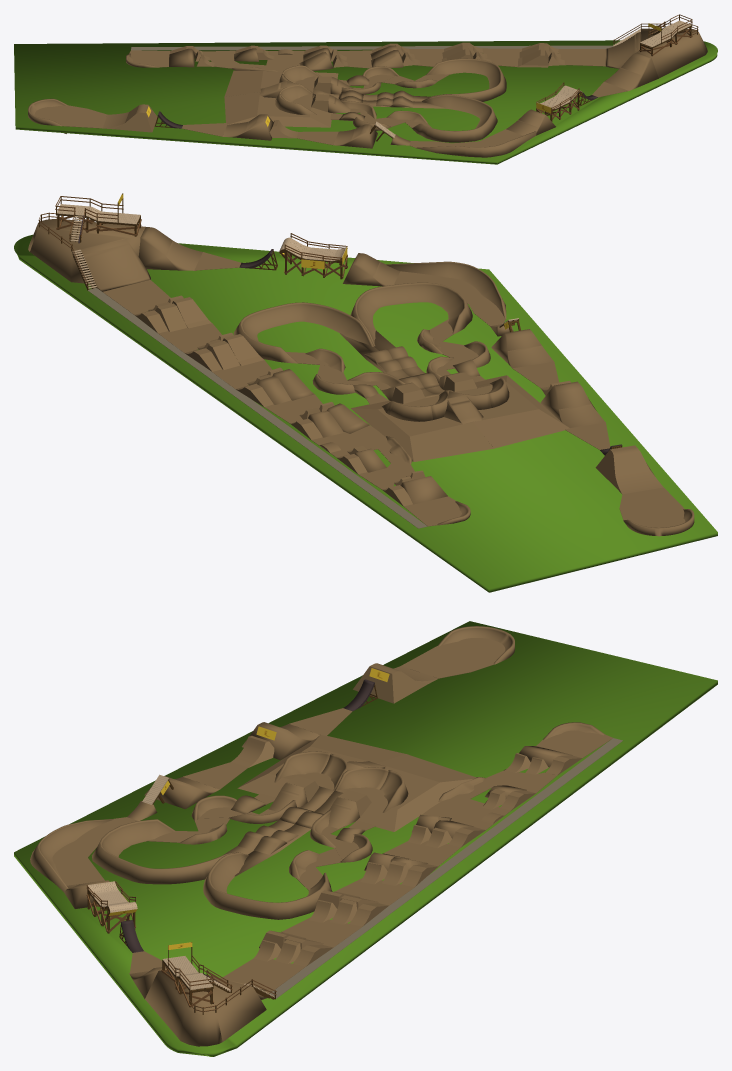
The model's file is dirt-3.0.glb.
3 views of the same model, one above another, from view 1: azimuth 30°, elevation 25°; view 2: azimuth 150°, elevation 25°; view 3: azimuth 270°, elevation 25° (orthographic). The views are drawn at different scales.
Parts seen in each view (by area): view 1: teren 3500, baza starter, delimitare margine fata.078, Cube.485, Cube.415, delimitare margine fata.073, Cube.012, landing drop/starter, Cube.023, delimitare margine stanga.002, landing bonner log.002, landing bonner log.001 (+31 smaller); view 2: teren 3500, baza starter, delimitare margine fata.073, delimitare margine fata.078, Cube.415, Cube.485, Cube.012, Cube.023, landing bonner log.002, landing drop/starter, landing bonner log.001, delimitare margine stanga.002 (+20 smaller); view 3: teren 3500, baza starter, delimitare margine fata.073, Cube.485, Cube.012, Cube.415, delimitare margine fata.078, Cube.023, Cube.004, delimitare margine stanga.002, landing bonner log.002, Cube.009 (+18 smaller).
Boxes of the visible parts, x1,y1,x2,y2 form: teren 3500: (14, 40, 717, 164); baza starter: (605, 28, 707, 78); delimitare margine fata.078: (224, 92, 331, 127); Cube.485: (412, 94, 497, 142); Cube.415: (422, 58, 506, 101); delimitare margine fata.073: (224, 70, 338, 96); Cube.012: (131, 45, 613, 50); landing drop/starter: (604, 52, 658, 91); Cube.023: (34, 105, 107, 128); delimitare margine stanga.002: (416, 131, 536, 157); landing bonner log.002: (102, 104, 157, 132); landing bonner log.001: (222, 114, 273, 140); teren 3500: (14, 234, 717, 592); baza starter: (28, 219, 150, 291); delimitare margine fata.073: (351, 395, 493, 461); delimitare margine fata.078: (455, 375, 569, 448); Cube.415: (233, 302, 373, 363); Cube.485: (350, 282, 472, 346); Cube.012: (88, 288, 427, 528); Cube.023: (619, 487, 685, 527); landing bonner log.002: (595, 445, 663, 494); landing drop/starter: (138, 227, 202, 270); landing bonner log.001: (540, 381, 605, 427); delimitare margine stanga.002: (386, 261, 506, 318); teren 3500: (14, 621, 717, 1056); baza starter: (145, 970, 271, 1046); delimitare margine fata.073: (337, 754, 476, 831); Cube.485: (92, 819, 237, 884); Cube.012: (269, 738, 622, 998); Cube.415: (203, 852, 332, 919); delimitare margine fata.078: (237, 735, 404, 797); Cube.023: (401, 638, 505, 678); Cube.004: (52, 817, 137, 885); delimitare margine stanga.002: (30, 819, 113, 891); landing bonner log.002: (353, 663, 438, 703); Cube.009: (422, 784, 510, 829).
Bounding box in the file's own units: 106 × 8.59 × 73.06.
Materials: 36 (6 with a texture image).
